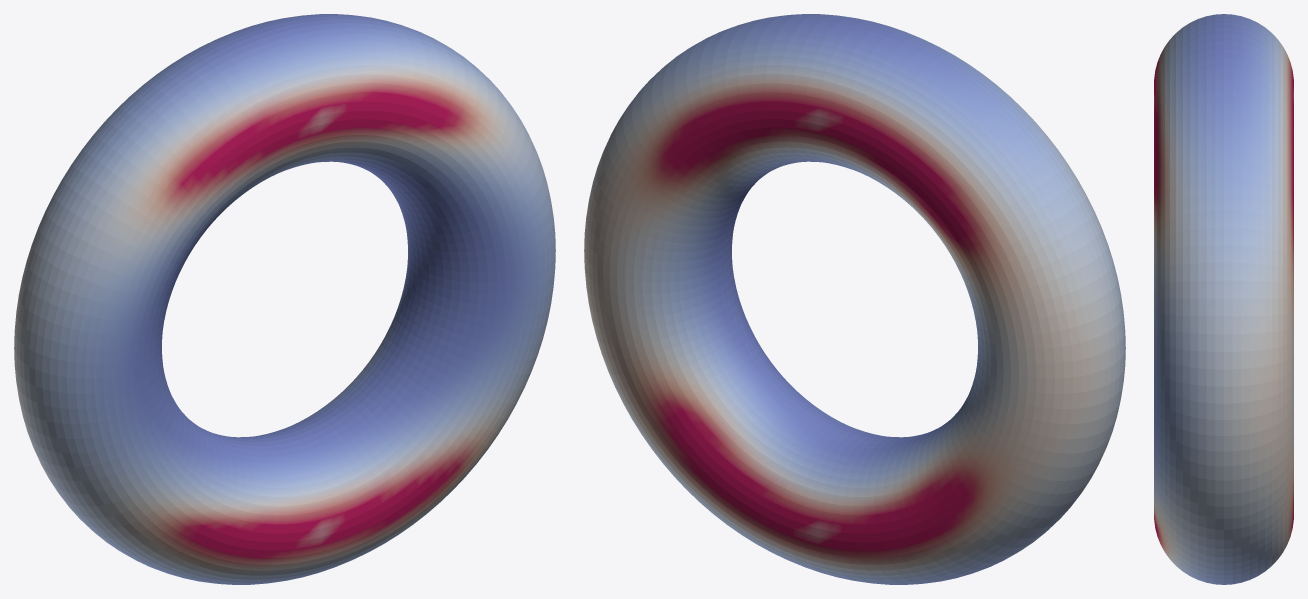
3 renders of one model, left to right at view 1: azimuth 30°, elevation 25°; view 2: azimuth 150°, elevation 25°; view 3: azimuth 270°, elevation 25°, orthographic. The views are drawn at different scales.
Visible parts, largest first — view 1: world; view 2: world; view 3: world.
Part boxes in pixels (x1,y1,x2,y2): world: (14, 14, 555, 584); world: (584, 14, 1125, 584); world: (1154, 14, 1293, 584).
Size of the model in its own units: 21.2 by 21.2 by 5.19.
